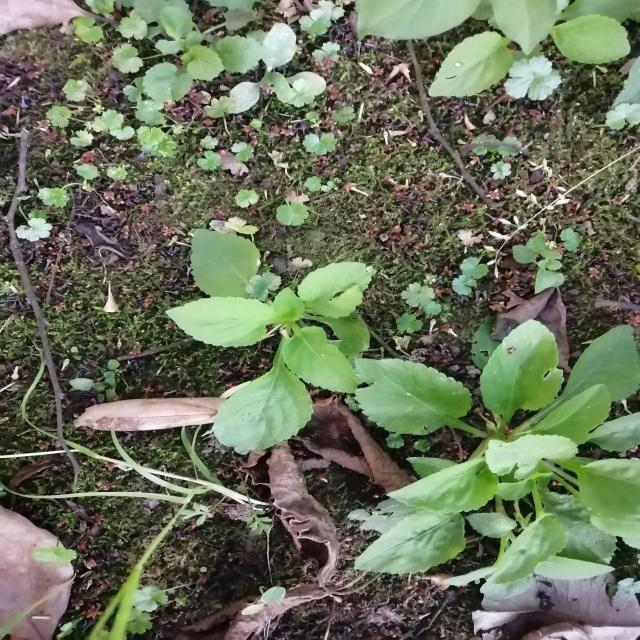Viola: (152, 244, 398, 457)
